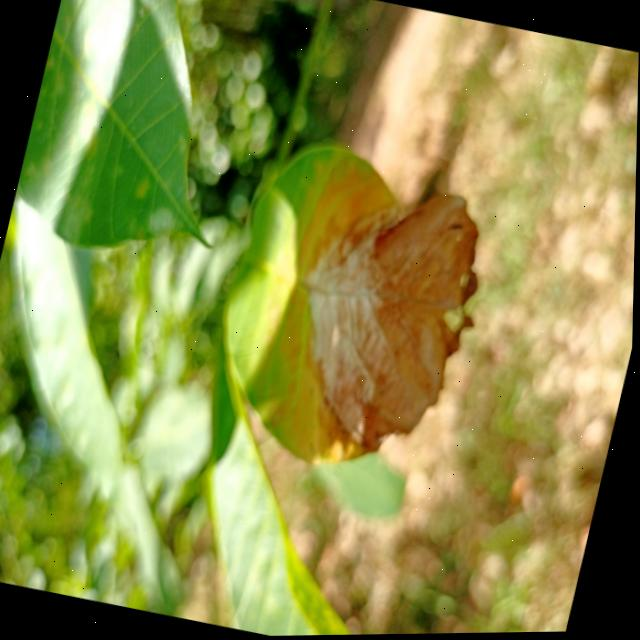Leaf-Blight: (265, 167, 505, 488)
